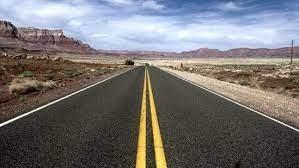road: (148, 67, 298, 167), (0, 67, 144, 167)
